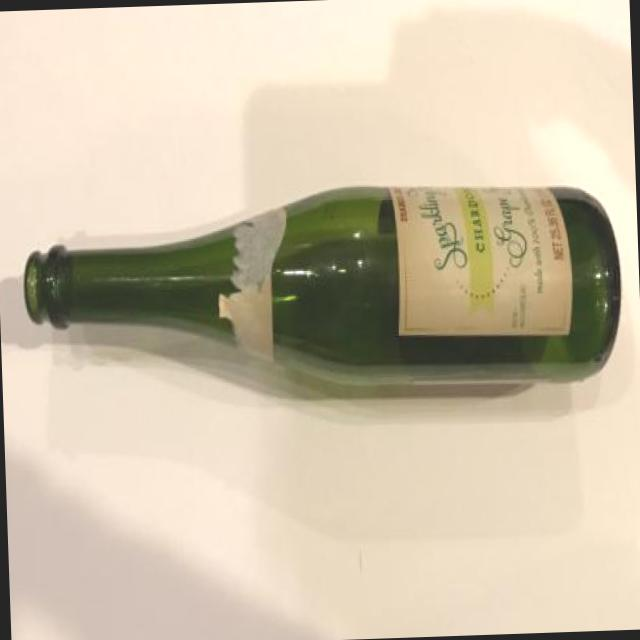chai_thuy_tinh: (23, 188, 622, 380)
